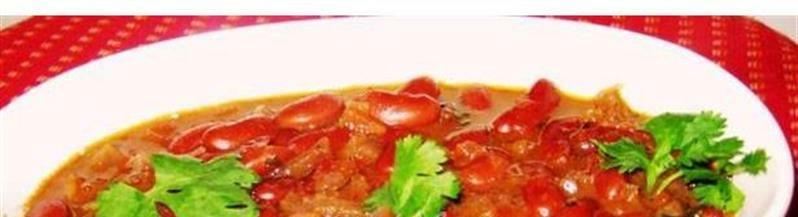RajmaCurry: (25, 75, 725, 217)
